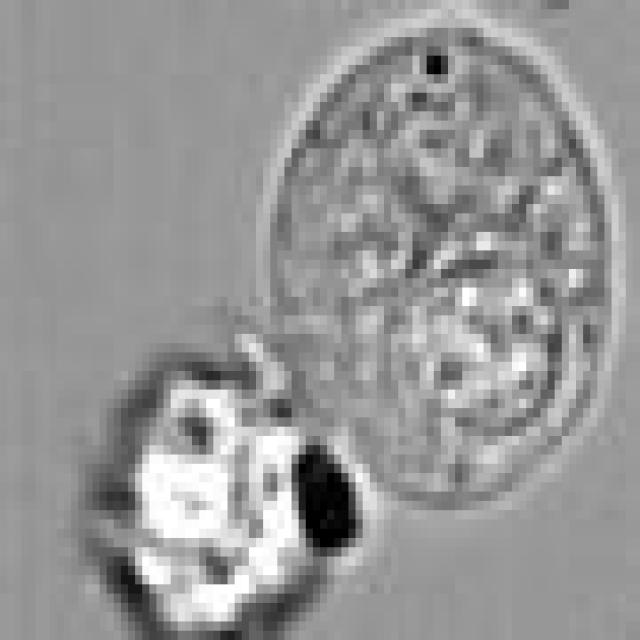Cancer Cell: (263, 19, 626, 510)
WBC: (113, 361, 334, 640)
